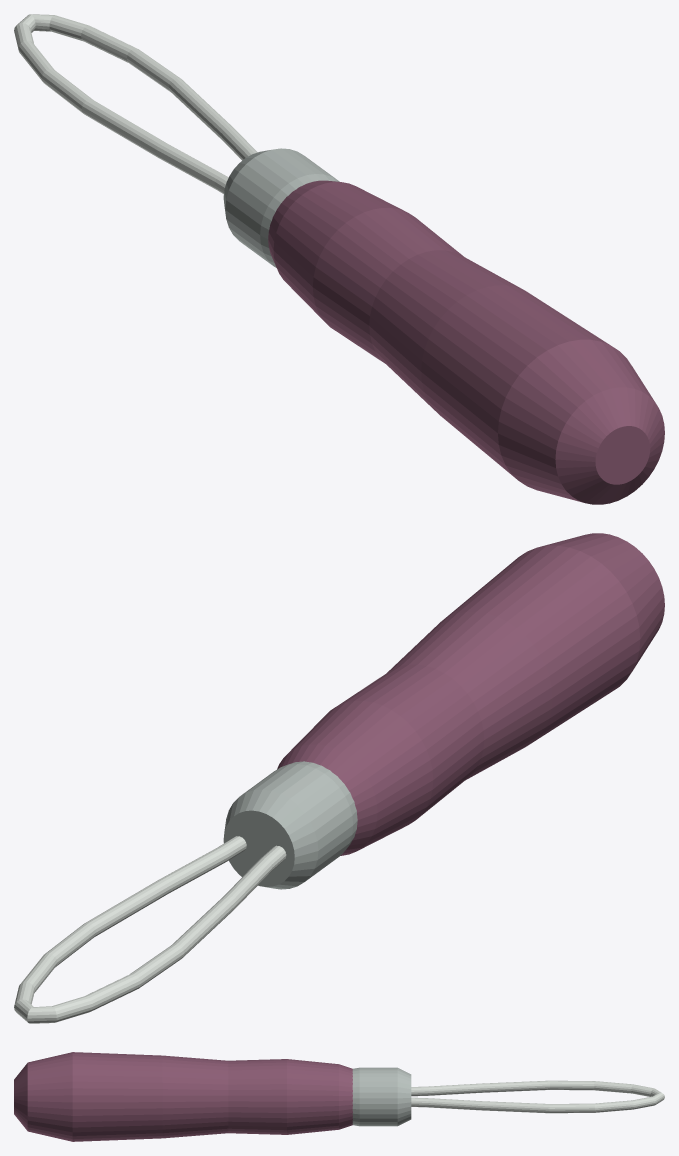
3 views of the same model, one above another, from view 1: azimuth 30°, elevation 25°; view 2: azimuth 150°, elevation 25°; view 3: azimuth 270°, elevation 25° (orthographic). The views are drawn at different scales.
Visible parts, largest first — view 1: WholeRoundedWaistedPalmGrip, WholeContinuousNarrowReturningWireEye, WholeShortFerrule; view 2: WholeRoundedWaistedPalmGrip, WholeShortFerrule, WholeContinuousNarrowReturningWireEye; view 3: WholeRoundedWaistedPalmGrip, WholeContinuousNarrowReturningWireEye, WholeShortFerrule.
Boxes of the visible parts, bbox=[...] form: WholeRoundedWaistedPalmGrip: bbox=[268, 180, 664, 504]; WholeContinuousNarrowReturningWireEye: bbox=[14, 14, 257, 194]; WholeShortFerrule: bbox=[223, 148, 339, 267]; WholeRoundedWaistedPalmGrip: bbox=[277, 533, 664, 855]; WholeShortFerrule: bbox=[223, 761, 357, 889]; WholeContinuousNarrowReturningWireEye: bbox=[14, 836, 286, 1023]; WholeRoundedWaistedPalmGrip: bbox=[14, 1052, 352, 1141]; WholeContinuousNarrowReturningWireEye: bbox=[411, 1080, 664, 1113]; WholeShortFerrule: bbox=[352, 1067, 411, 1126].
Bounding box in the file's own units: 0.026 × 0.026 × 0.1884.
